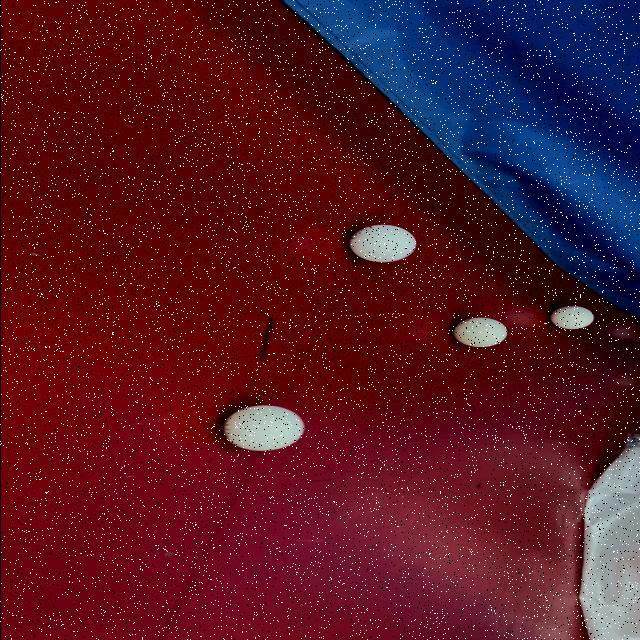ping-pong-ball: (220, 402, 308, 452), (343, 222, 418, 264), (450, 316, 510, 348), (546, 304, 596, 332)
